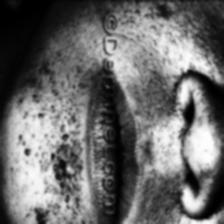Unclassified: (12, 36, 83, 224), (132, 0, 224, 67), (151, 76, 175, 208), (155, 212, 224, 224)
